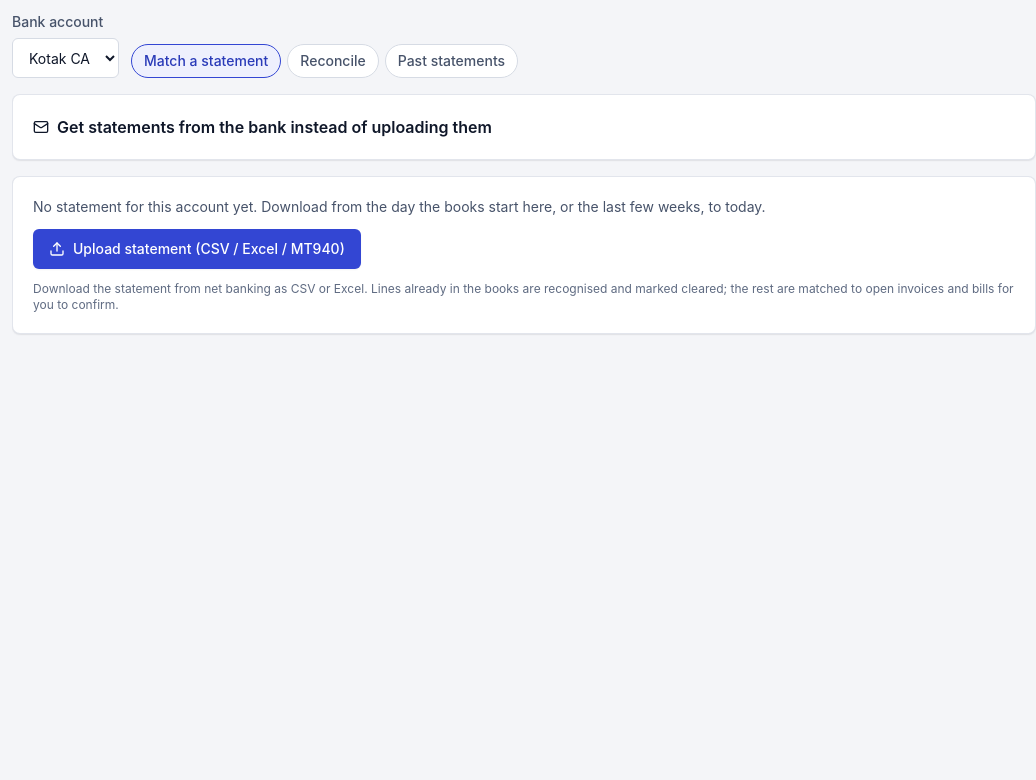
it: the reconciliation, while the bank's balance is being typed › keeps the figures on screen instead of blanking them at every digit
The width and height of the screenshot is (1036, 780).
Click the button "Reconcile": [333, 61] box [287, 44, 379, 78]
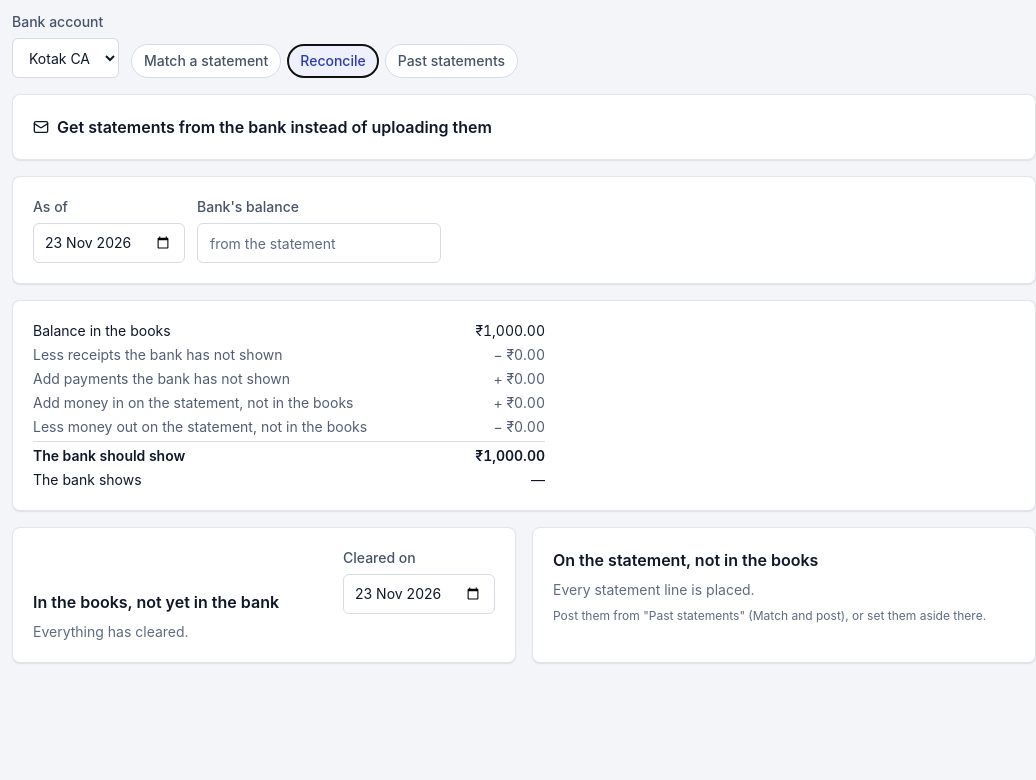
Now the text "Balance in the books" is shown, box [33, 321, 171, 341]
In the number field labelled "Bank's balance": [319, 243] box [197, 223, 441, 263], type "9"
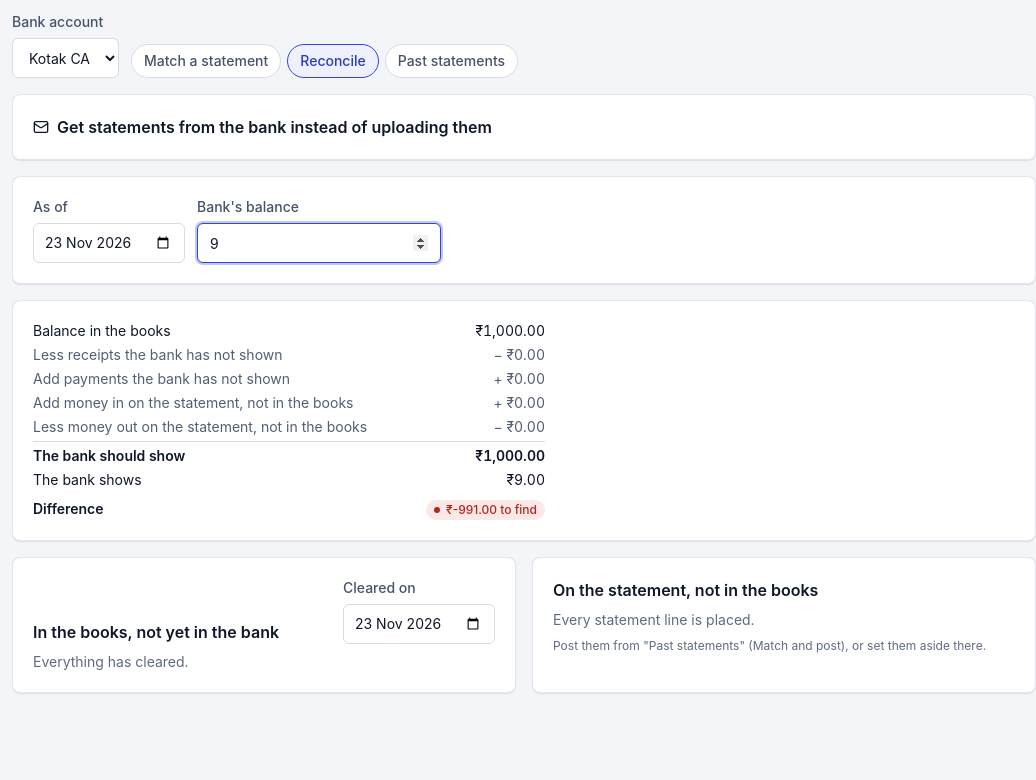
Now the text "Balance in the books" is shown, box [33, 321, 171, 341]
Now the text "₹-991.00 to find" is shown, box [446, 502, 537, 518]
